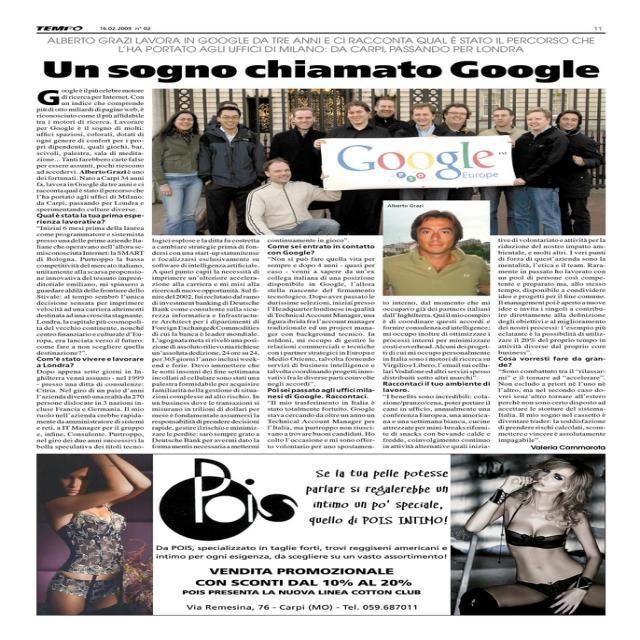google: (333, 139, 502, 183)
